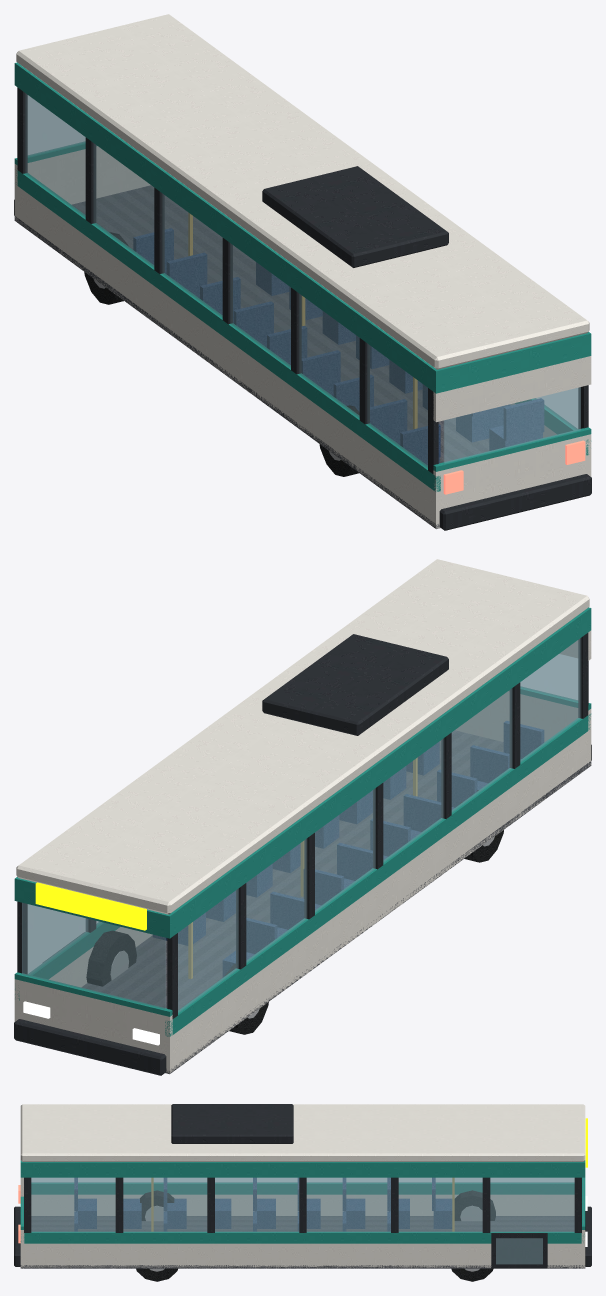
File: city_bus.glb
The picture shows the model from 3 angles, top to bottom: view 1: azimuth 30°, elevation 25°; view 2: azimuth 150°, elevation 25°; view 3: azimuth 270°, elevation 25°; orthographic projection. The views are drawn at different scales.
Visible parts, largest first — view 1: Bus_Body, Bus_Glass, Bus_Wheel0_Tyre; view 2: Bus_Body, Bus_Glass, Bus_Wheel0_Tyre; view 3: Bus_Body, Bus_Glass, Bus_Wheel0_Tyre, Bus_Wheel0_Hub.
Boxes of the visible parts, <box> form: Bus_Body: <box>14,14,591,530</box>; Bus_Glass: <box>25,93,580,467</box>; Bus_Wheel0_Tyre: <box>84,232,359,476</box>; Bus_Body: <box>14,559,591,1075</box>; Bus_Glass: <box>22,638,580,1012</box>; Bus_Wheel0_Tyre: <box>86,790,503,1034</box>; Bus_Body: <box>14,1104,591,1268</box>; Bus_Glass: <box>22,1177,583,1264</box>; Bus_Wheel0_Tyre: <box>136,1190,495,1281</box>; Bus_Wheel0_Hub: <box>145,1205,482,1271</box>.
Size of the model in its own units: 2.62 by 3.22 by 12.28.
12 materials, 9 textured.
